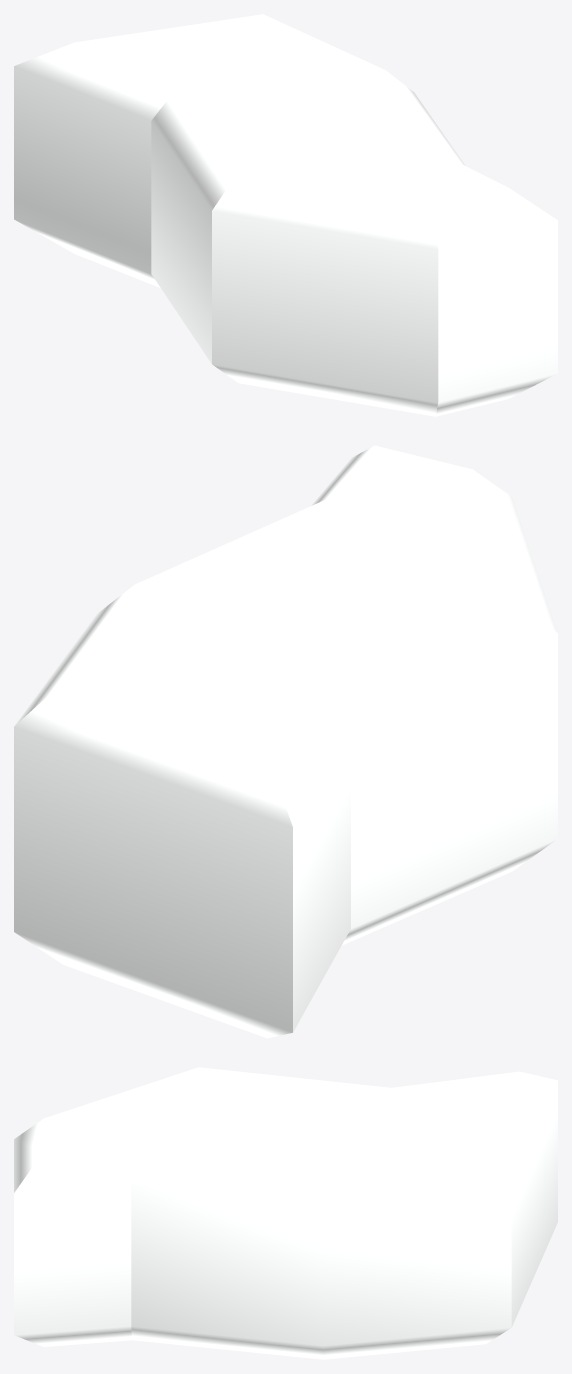
File: ice_floe_small_001.glb
3 renders of one model, top to bottom at view 1: azimuth 30°, elevation 25°; view 2: azimuth 150°, elevation 25°; view 3: azimuth 270°, elevation 25°, orthographic. The views are drawn at different scales.
Visible parts, largest first — view 1: ice_floe_small_001; view 2: ice_floe_small_001; view 3: ice_floe_small_001.
Part boxes in pixels (x1,y1,x2,y2): ice_floe_small_001: [14, 14, 557, 416]; ice_floe_small_001: [14, 445, 557, 1038]; ice_floe_small_001: [14, 1067, 557, 1359].
Size of the model in its own units: 0.9421 by 0.6962 by 1.75.
1 material, 1 textured.
